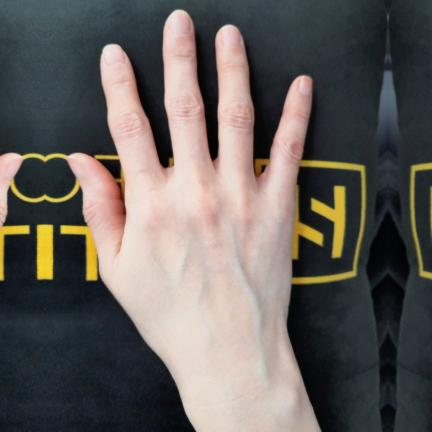Nail: (167, 10, 190, 35), (102, 44, 125, 67), (219, 25, 240, 47), (65, 156, 84, 179), (4, 156, 23, 179), (299, 76, 312, 95)
